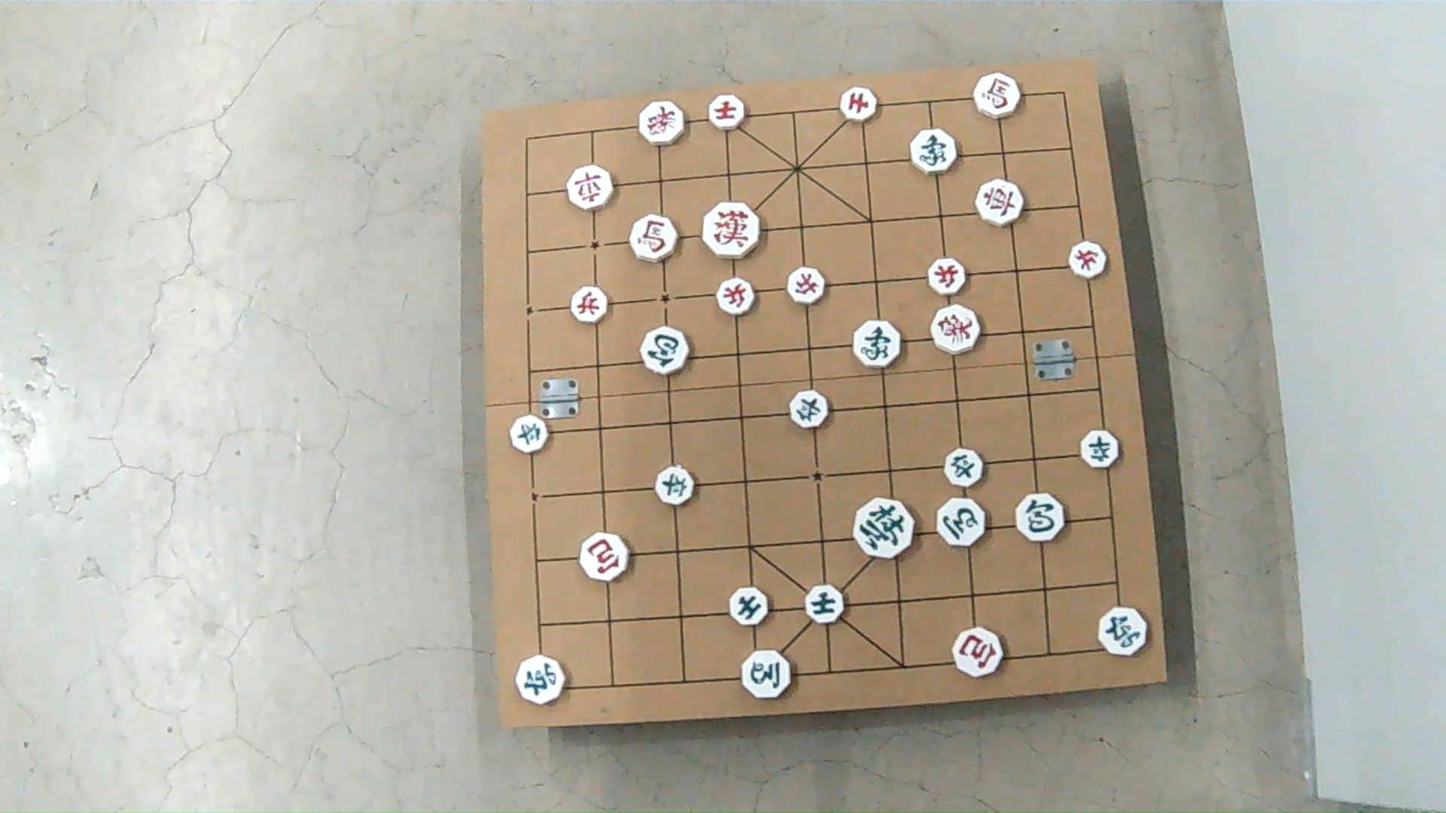cha_green: (515, 654, 565, 703), (1098, 607, 1147, 656)
cha_red: (975, 178, 1024, 226), (567, 164, 612, 209)
jol_green: (655, 467, 694, 507), (789, 389, 828, 428), (946, 447, 985, 485), (1081, 431, 1119, 470), (510, 417, 548, 455)
jol_red: (929, 257, 967, 295), (787, 268, 825, 306), (1069, 242, 1107, 279), (570, 285, 607, 322), (716, 279, 753, 316)
ma_green: (744, 652, 793, 700), (937, 498, 986, 546)
ma_red: (630, 217, 678, 263), (974, 72, 1020, 117)
po_green: (1016, 493, 1063, 542), (639, 327, 686, 374)
po_red: (951, 627, 1002, 676), (582, 531, 632, 580)
sa_green: (805, 586, 845, 625), (728, 589, 767, 627)
sa_red: (840, 88, 877, 123), (710, 94, 746, 129)
sang_green: (853, 322, 901, 370), (910, 129, 957, 173)
sang_red: (932, 307, 981, 355), (639, 102, 684, 145)
wang_green: (853, 500, 913, 560)
wang_red: (703, 203, 759, 260)
